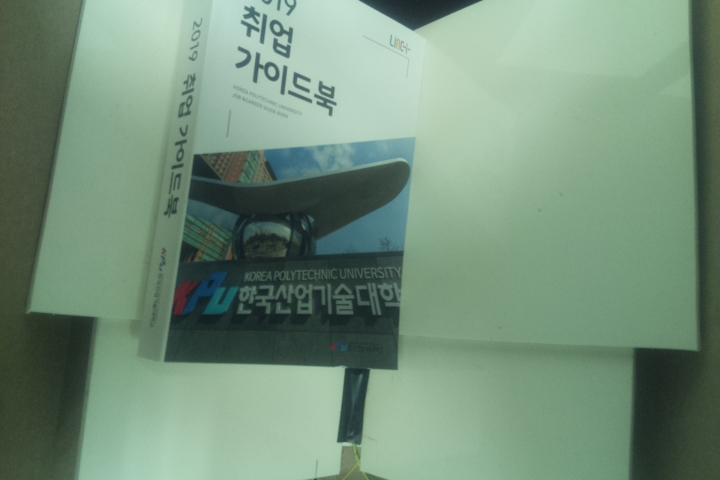book: (133, 1, 433, 375)
